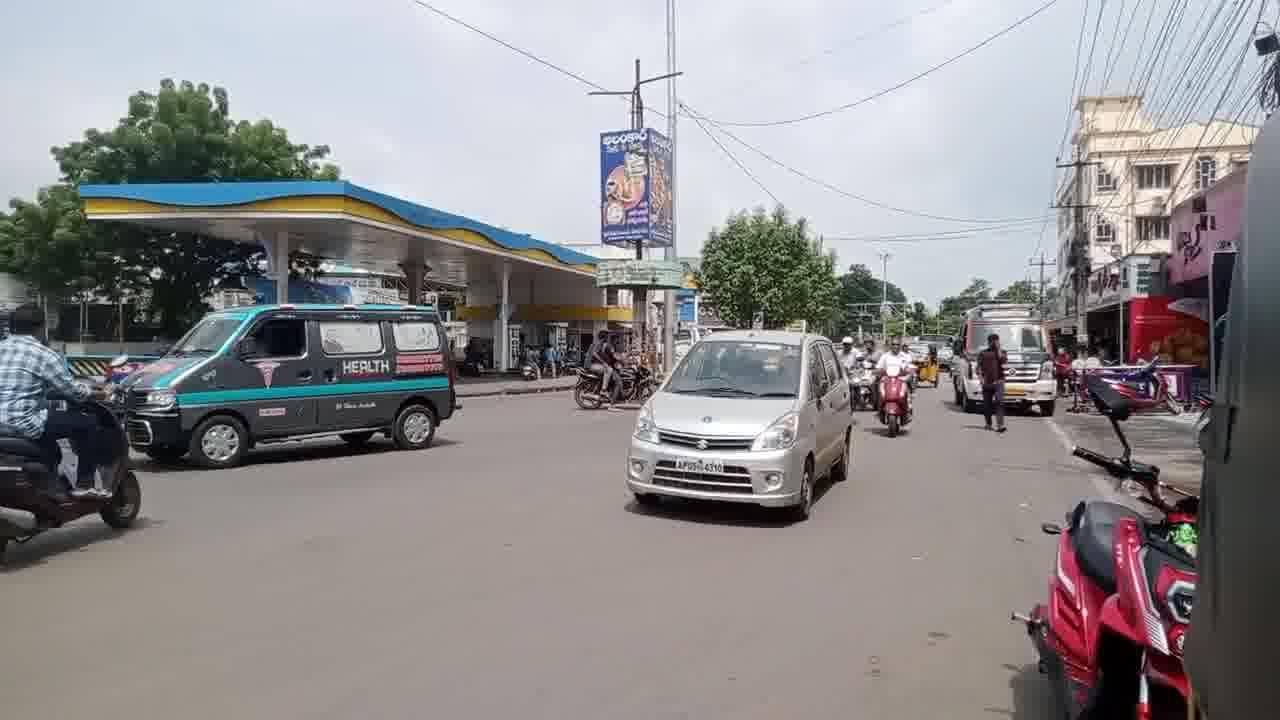AMBULANCE: (122, 295, 458, 448), (962, 295, 1063, 401)
